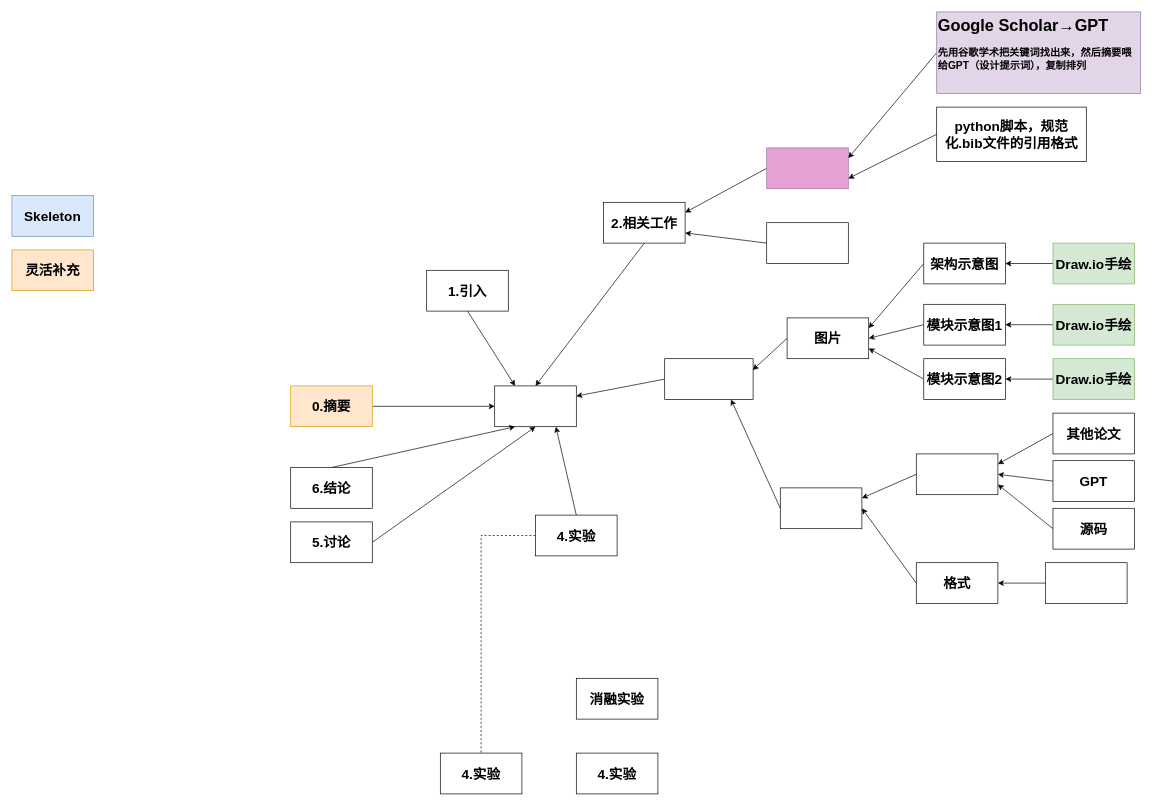
Image size: 1153x806. Some labels were removed from this diagram. The centre of each missing label's shape, as x and y in pixels:
3.方法: pixel 708 379
SAM-OCTA: pixel 1086 583
公式: pixel 821 508
内容: pixel 957 474
对应方法的主题: pixel 807 243
文献: pixel 807 168
段落: pixel 535 406
